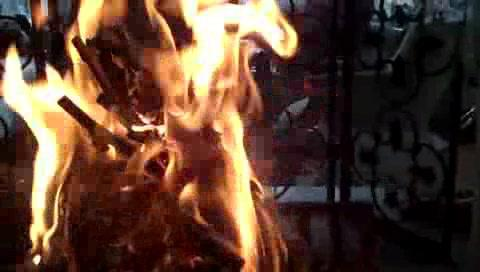fire: (20, 1, 273, 263)
